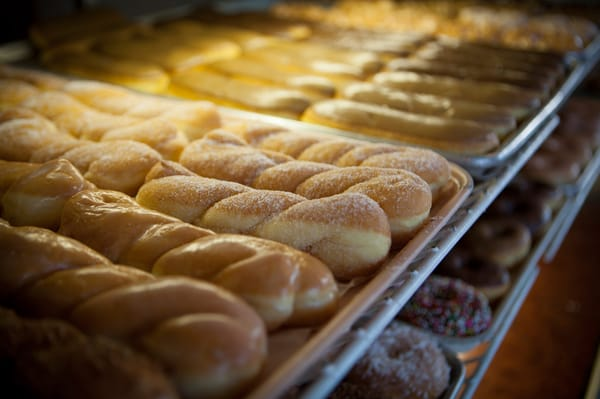salad: (69, 277, 268, 394), (151, 234, 341, 333), (0, 309, 183, 396), (251, 191, 391, 282), (295, 166, 433, 248), (59, 189, 200, 266), (331, 321, 455, 398), (0, 218, 113, 299), (355, 148, 467, 215), (398, 275, 493, 338), (135, 174, 251, 225), (179, 134, 290, 187), (60, 139, 163, 196), (200, 189, 309, 236), (253, 160, 335, 192)
